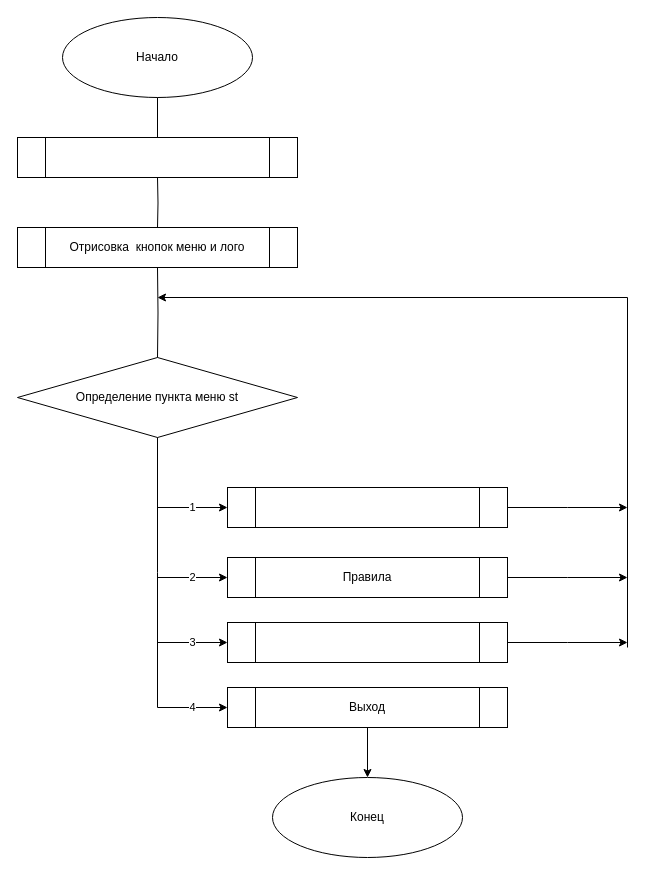
This 653x875 diagram has some shape labels left out. The centre of each missing label's shape, as x and y in pixels:
Инициализация программы: the point at 157,157
Новая игра: the point at 367,507
О программе: the point at 367,642
